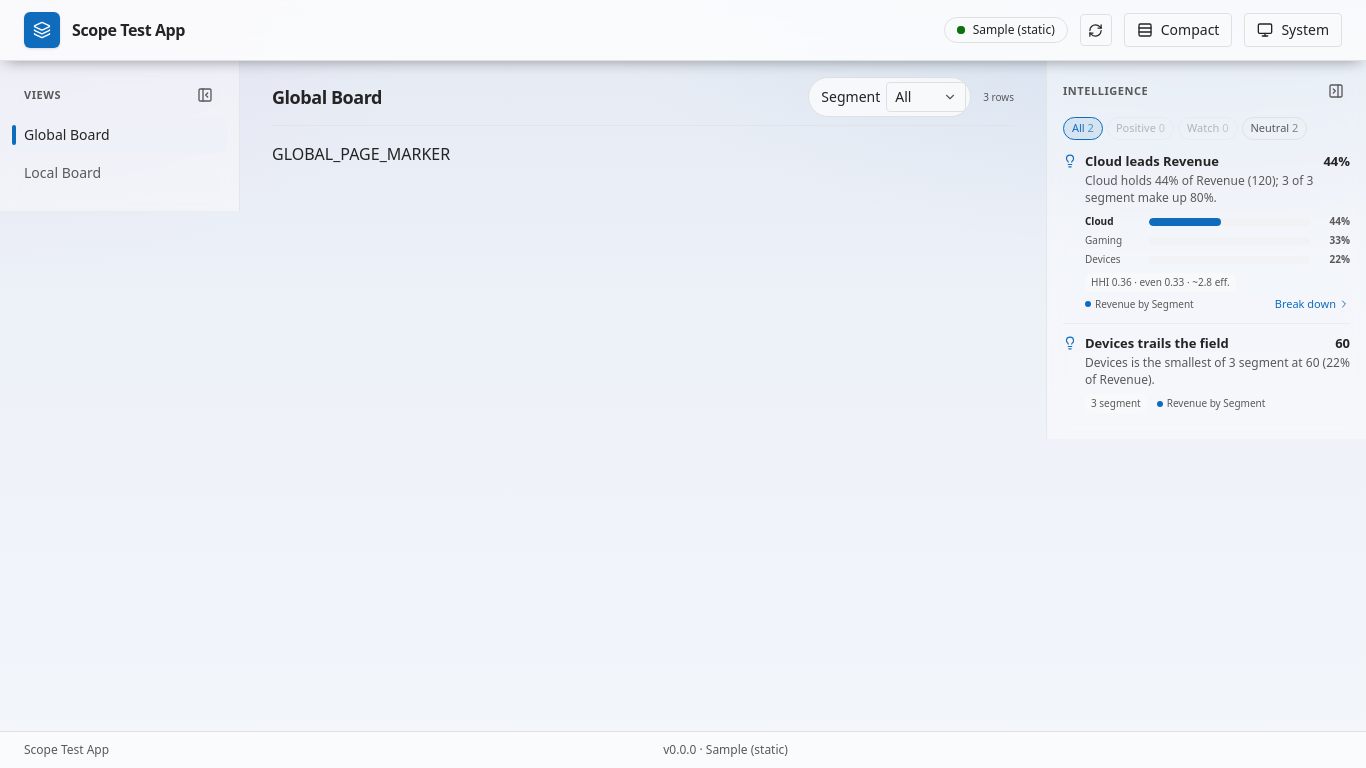
page scope contract › suppresses inert filters + row count and shows a scope note on a scoped page
Expected: the text "GLOBAL_PAGE_MARKER" is shown, [272,143,450,165]
Navigate to the scoped local page via the desktop nav.
What coordinates should you click on to do the following:
click the button "Local Board"
I would click on:
 (120, 173)
Its box is [12,155,227,191].
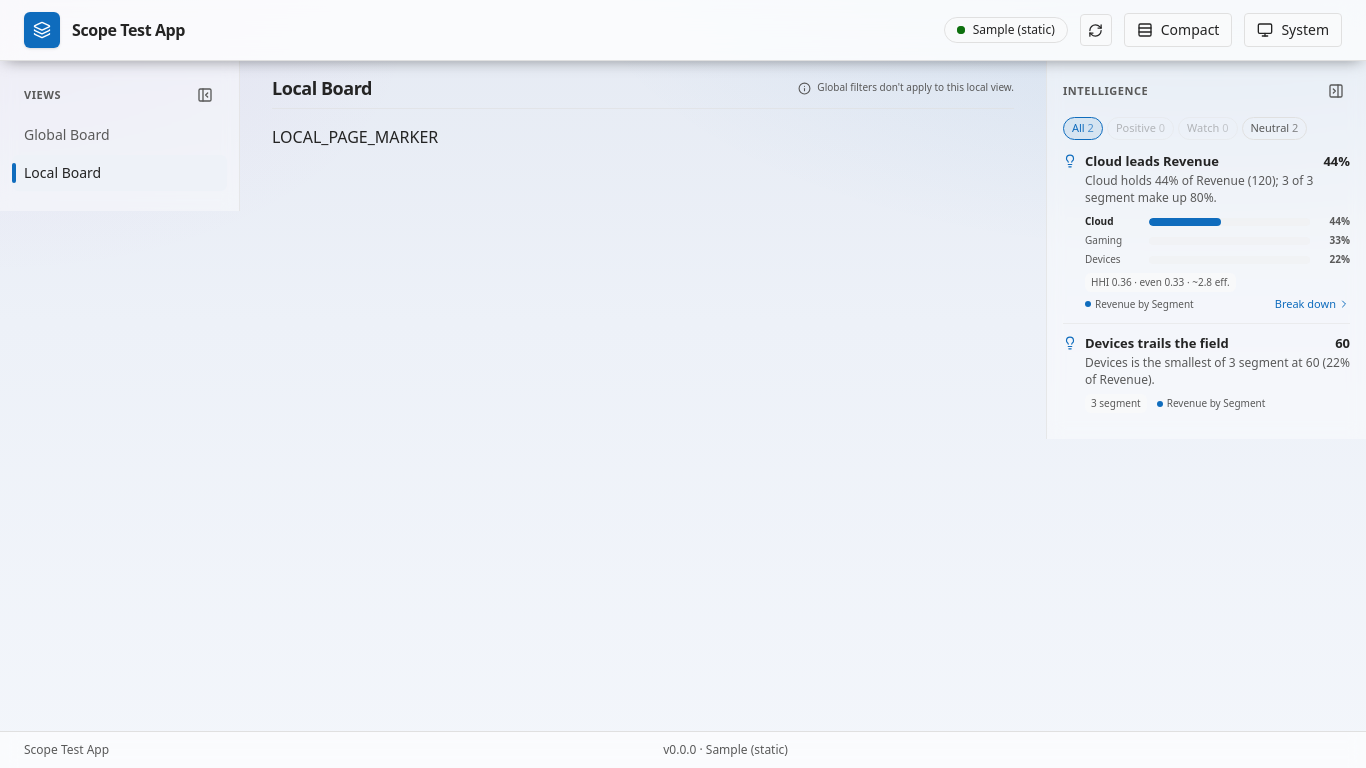
Now the text "LOCAL_PAGE_MARKER" is shown, box [272,126,438,148]
Now the text "3 rows" is gone
Now the text "Global filters don't apply to this local view." is shown, box [817,81,1014,95]
